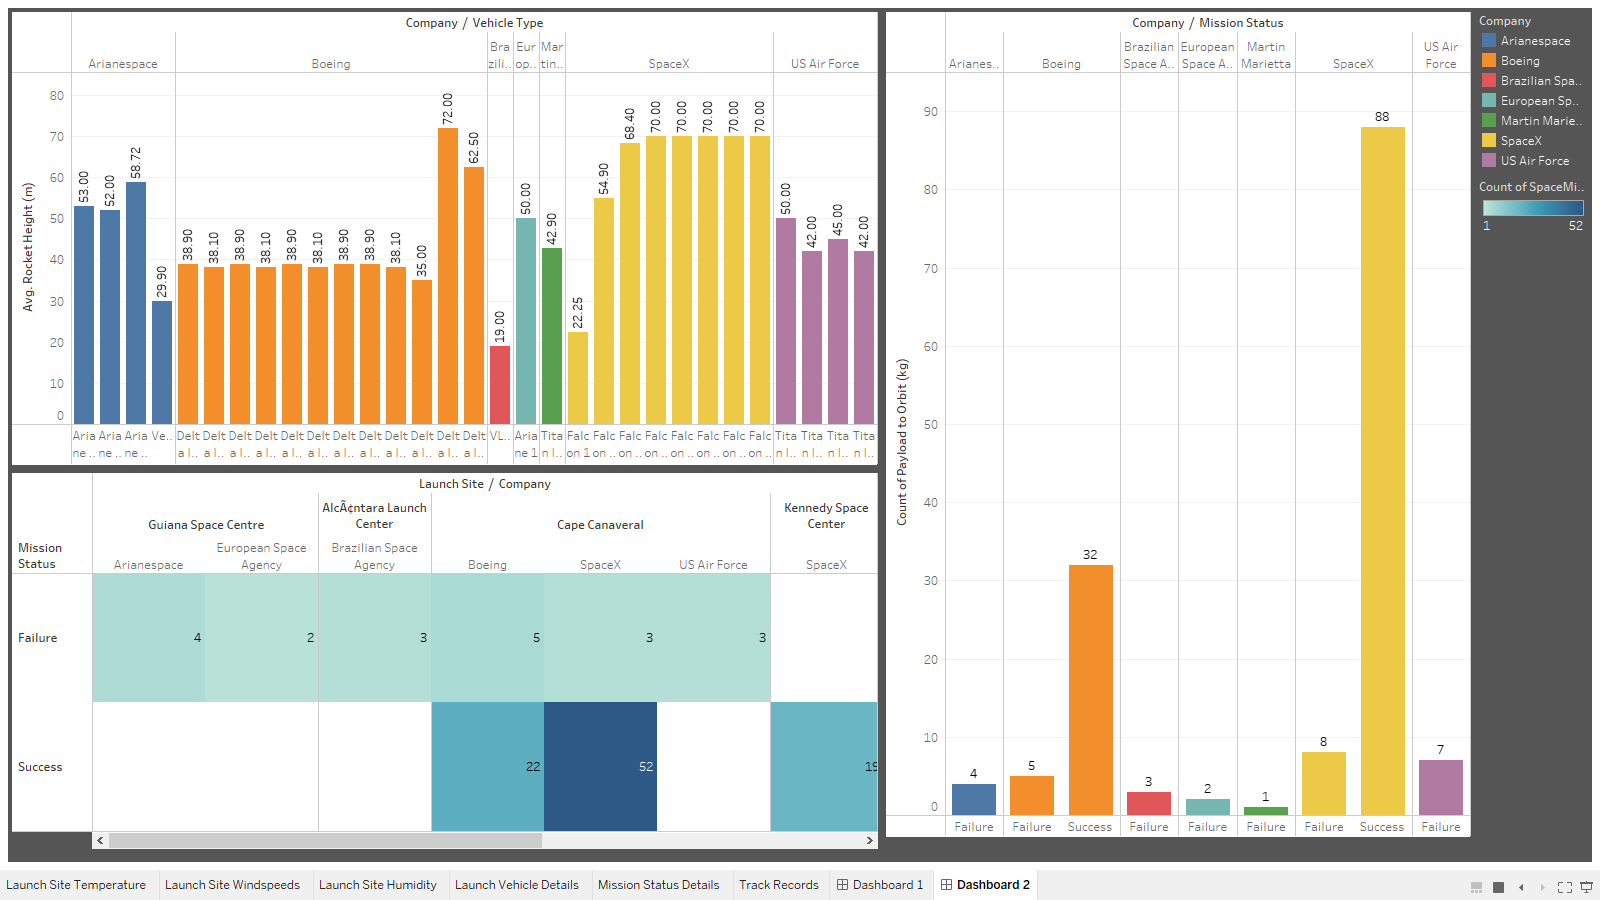

The page's visual inventory and layout, read from the dashboard file:
{"tool":"tableau","page":{"name":"Dashboard 2","canvas":[1000,1000],"units":"permille","ordinal":1},"visuals":[{"type":"worksheet","title":"Launch Vehicle Details","mark":"Automatic","rows":["Rocket Height (m)"],"cols":["Company","Vehicle Type"],"box":[5.8,10.5,538.9,528.7]},{"type":"worksheet","title":"Mission Status Details","mark":"Automatic","rows":["Payload to Orbit (kg)"],"cols":["Company","Mission Status"],"box":[544.6,10.5,365.4,979.1]},{"type":"legend","title":"Launch Vehicle Details","param":"[federated.1jge4w916f9qkq1b7jlyw0vfbot0].[none:Company:nk]","box":[910,10.5,84.2,217.3]},{"type":"legend","title":"Track Records","param":"[federated.1jge4w916f9qkq1b7jlyw0vfbot0].[__tableau_internal_object_id__].[cnt:S","box":[910,227.8,84.2,85.1]},{"type":"worksheet","title":"Track Records","mark":"Square","rows":["Mission Status"],"cols":["Launch Site","Company"],"box":[5.8,539.2,538.9,450.3]}]}

Visuals, with their boxes on the dashboard's canvas, which has no fixed pixel size, in thousandths of its width and height (x1, y1, x2, y2). These are canvas units, not pixel positions in the 1600x900 screenshot, which may show the page scaled, cropped or inside an application window:
"Launch Vehicle Details" worksheet: <region>6, 10, 545, 539</region>
"Mission Status Details" worksheet: <region>545, 10, 910, 990</region>
"Launch Vehicle Details" legend: <region>910, 10, 994, 228</region>
"Track Records" legend: <region>910, 228, 994, 313</region>
"Track Records" worksheet (Square marks): <region>6, 539, 545, 990</region>
